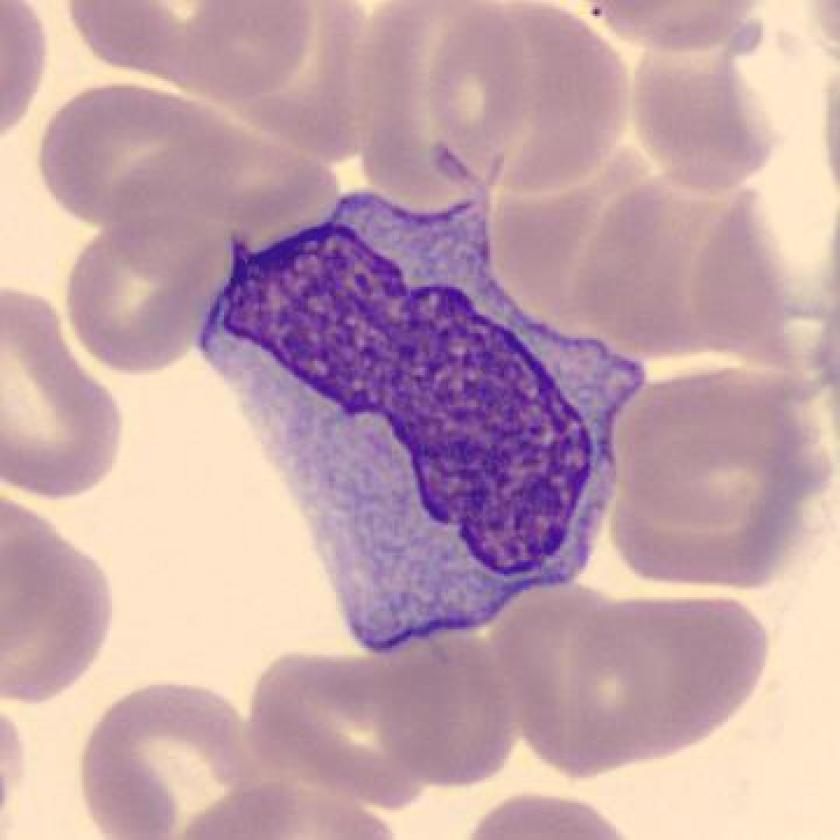monocyte: (183, 142, 661, 670)
